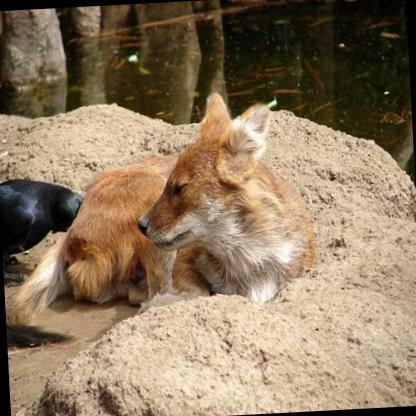dhole: (0, 84, 318, 315)
